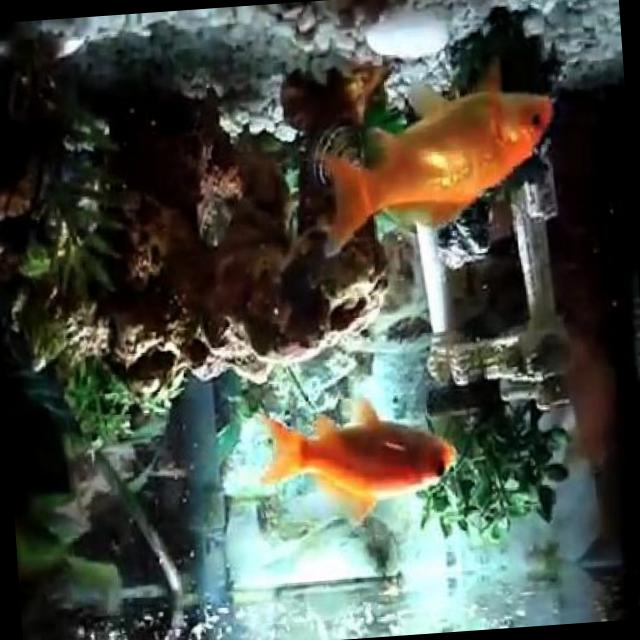GoldFish: (316, 80, 565, 282), (257, 395, 454, 536)
